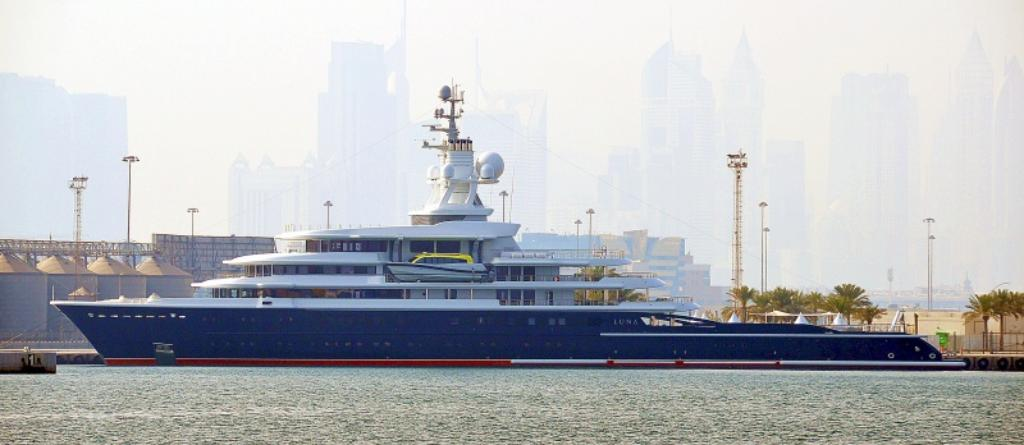PassengerShip: (50, 85, 966, 369)
